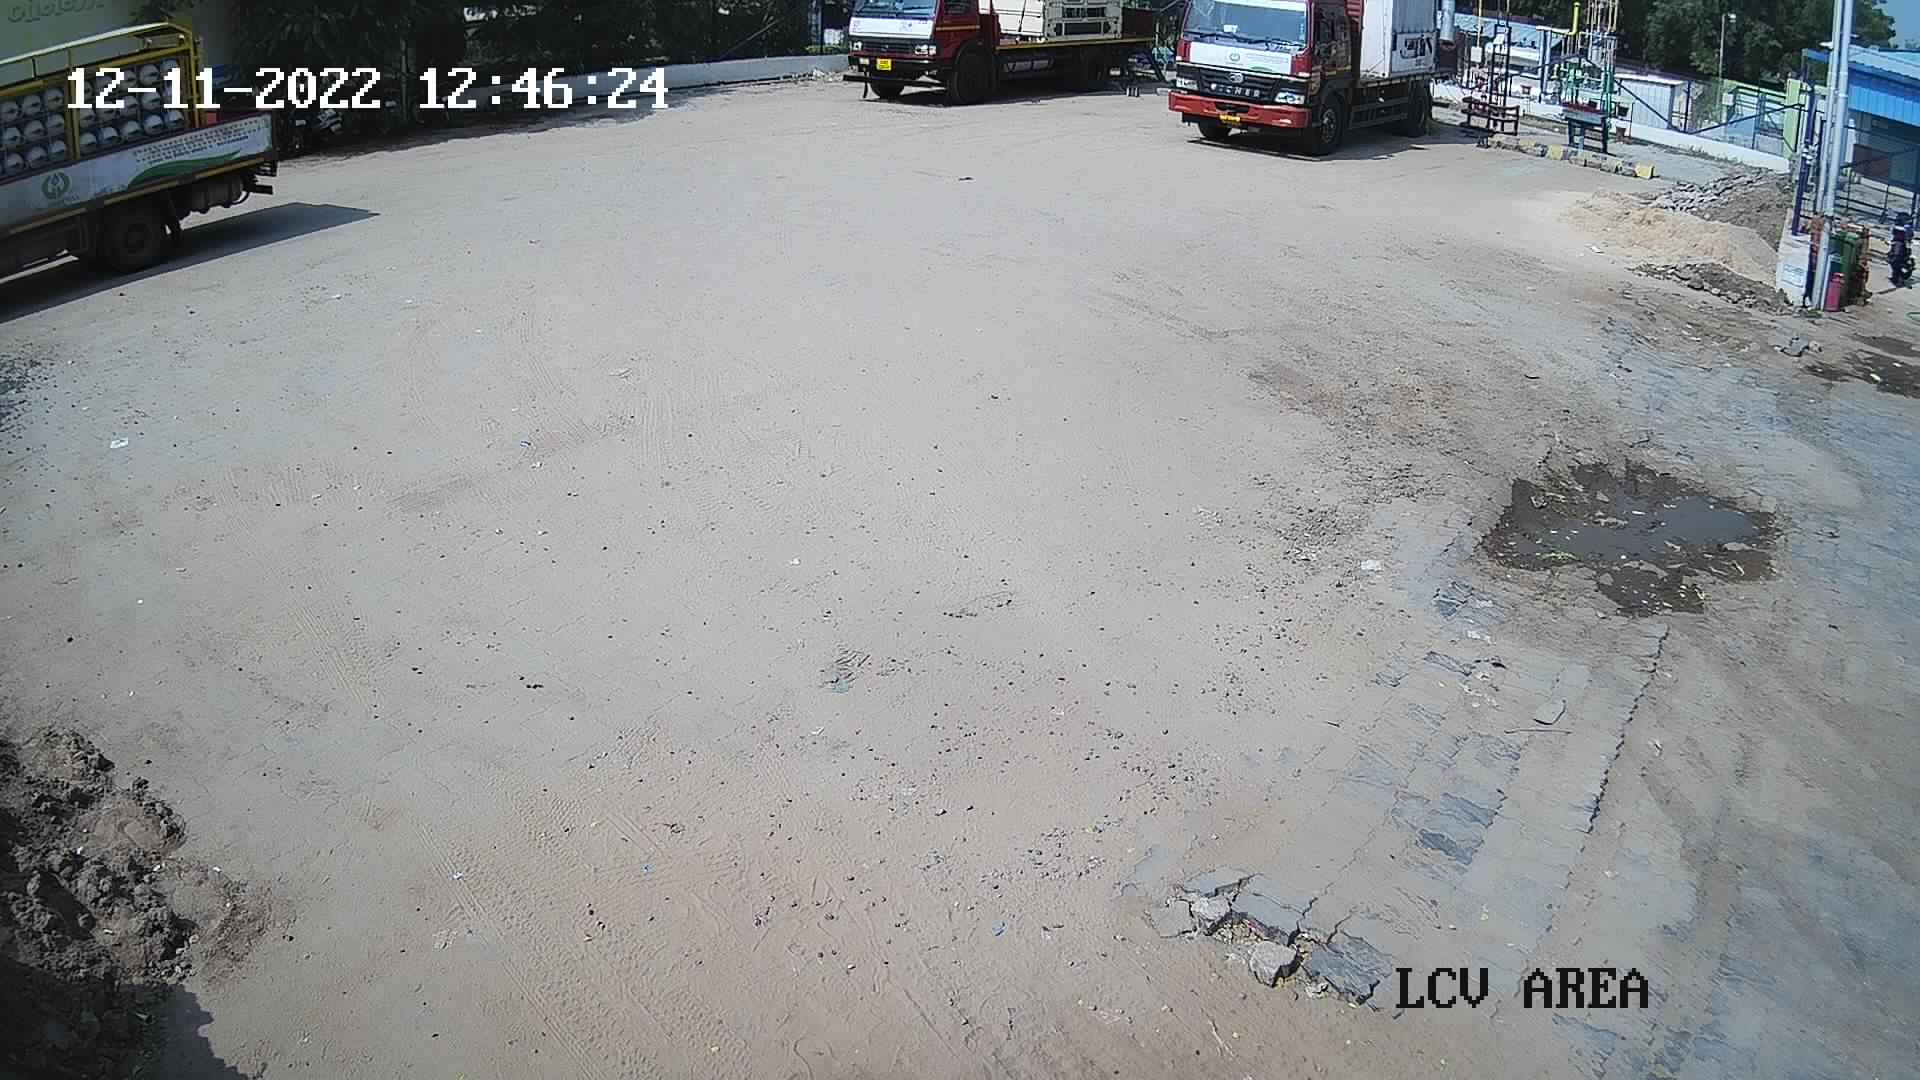Bike: (1873, 200, 1917, 295)
HMV: (1, 11, 318, 285), (1155, 0, 1462, 154), (820, 0, 1168, 107)
